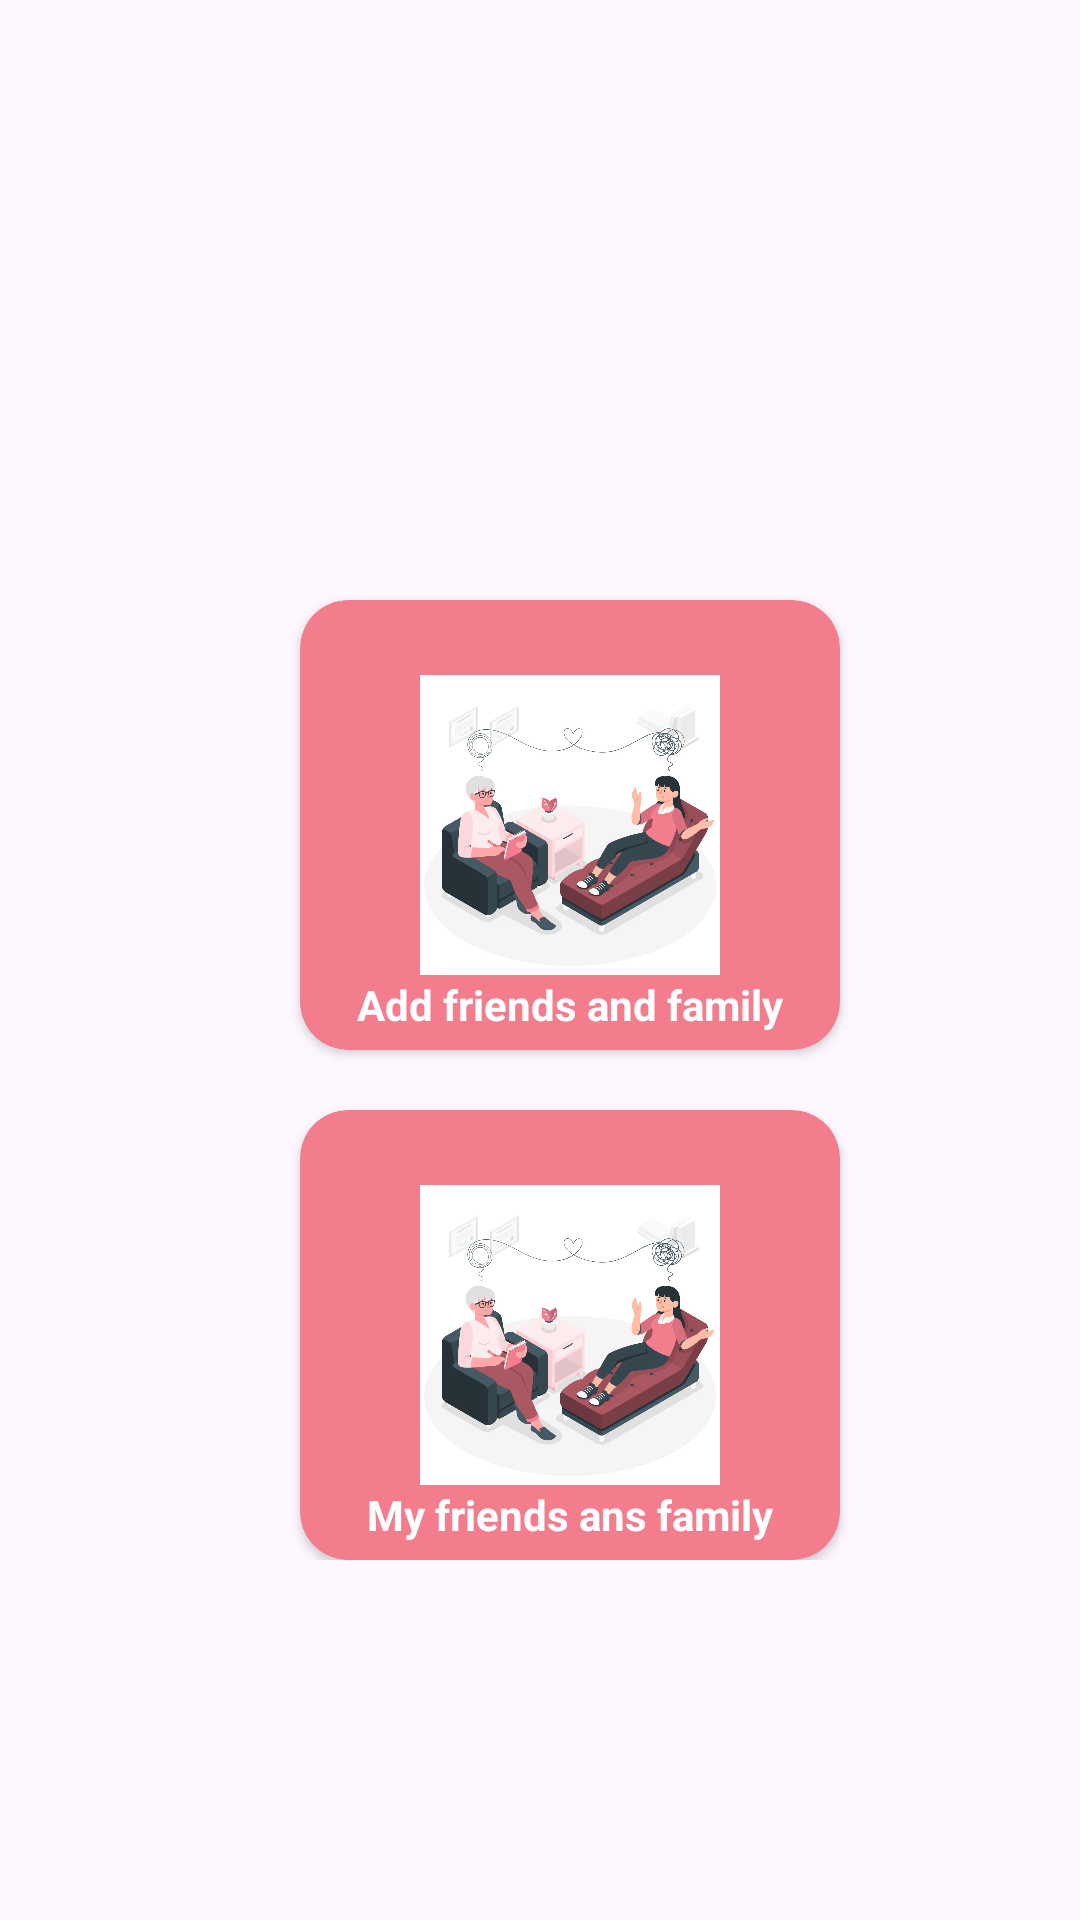

Icon click points for this 1080x1920 phone screenshot, format [x,y]:
doctor: [570,825], [570,1335]
